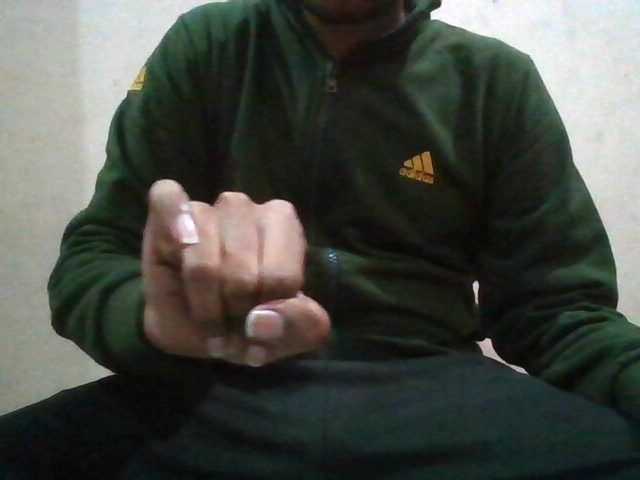J: (138, 171, 335, 372)
